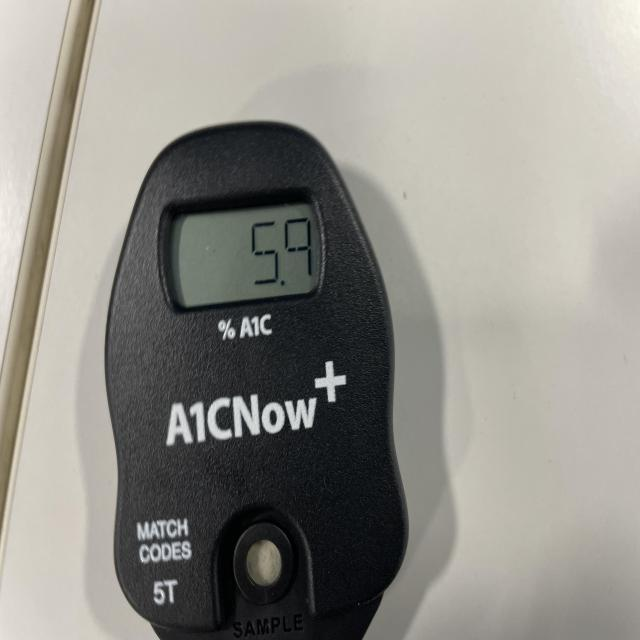hba1c: (102, 121, 410, 640)
